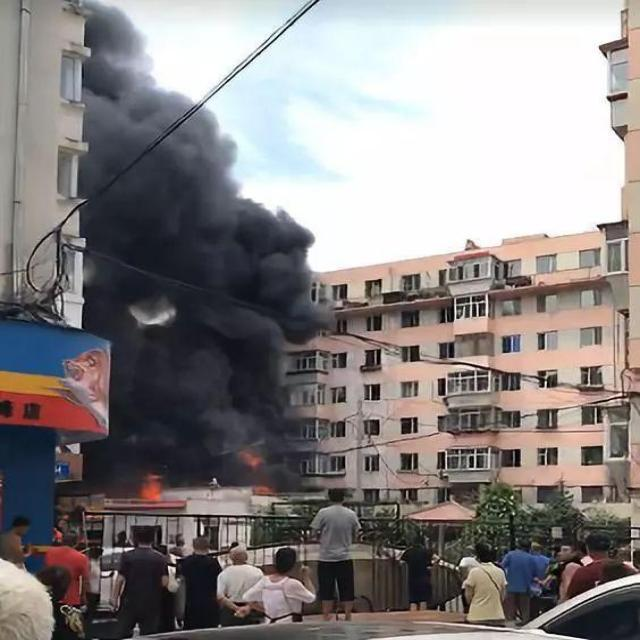Fire: (138, 472, 164, 502)
Smoke: (77, 1, 338, 498)
